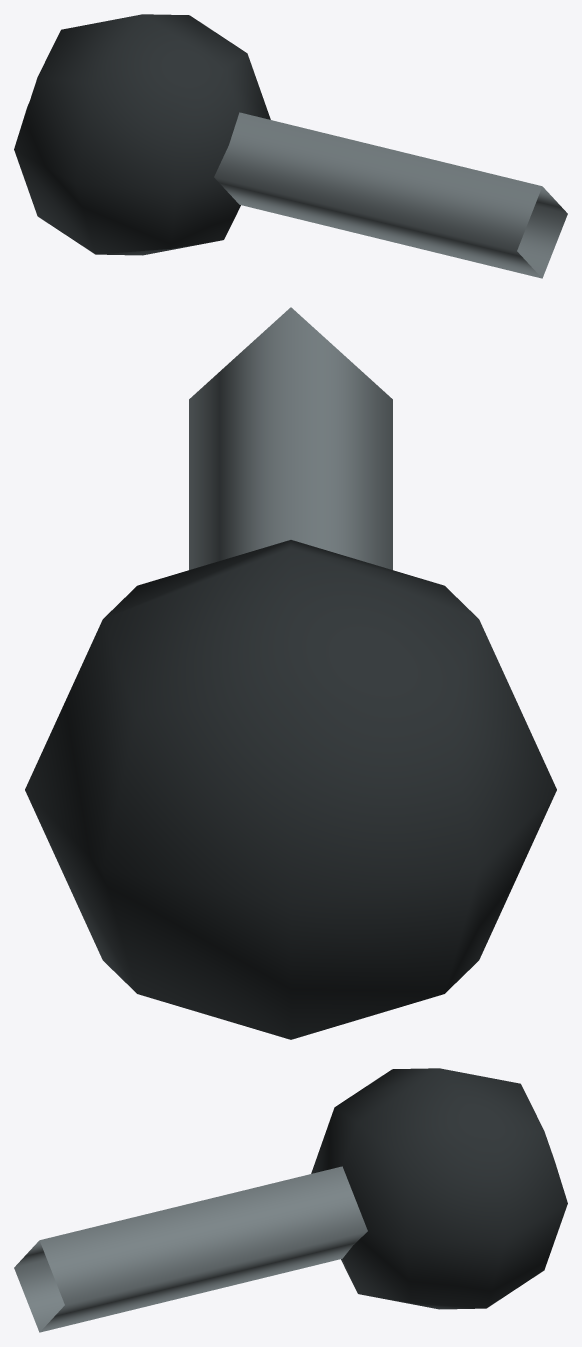
Rendered from Sphere_Vehicle_Seat_R_Arm_001.fbx.
3 views of the same model, one above another, from view 1: azimuth 30°, elevation 25°; view 2: azimuth 150°, elevation 25°; view 3: azimuth 270°, elevation 25° (orthographic). The views are drawn at different scales.
Visible parts, largest first — view 1: Sphere_Vehicle_Seat_R_Arm_001; view 2: Sphere_Vehicle_Seat_R_Arm_001; view 3: Sphere_Vehicle_Seat_R_Arm_001.
Part boxes in pixels (box(x1,y1,x2,y2)): Sphere_Vehicle_Seat_R_Arm_001: box(14, 14, 567, 278); Sphere_Vehicle_Seat_R_Arm_001: box(25, 307, 556, 1039); Sphere_Vehicle_Seat_R_Arm_001: box(14, 1068, 567, 1332).
Size of the model in its own units: 20.95 by 28.75 by 13.81.
